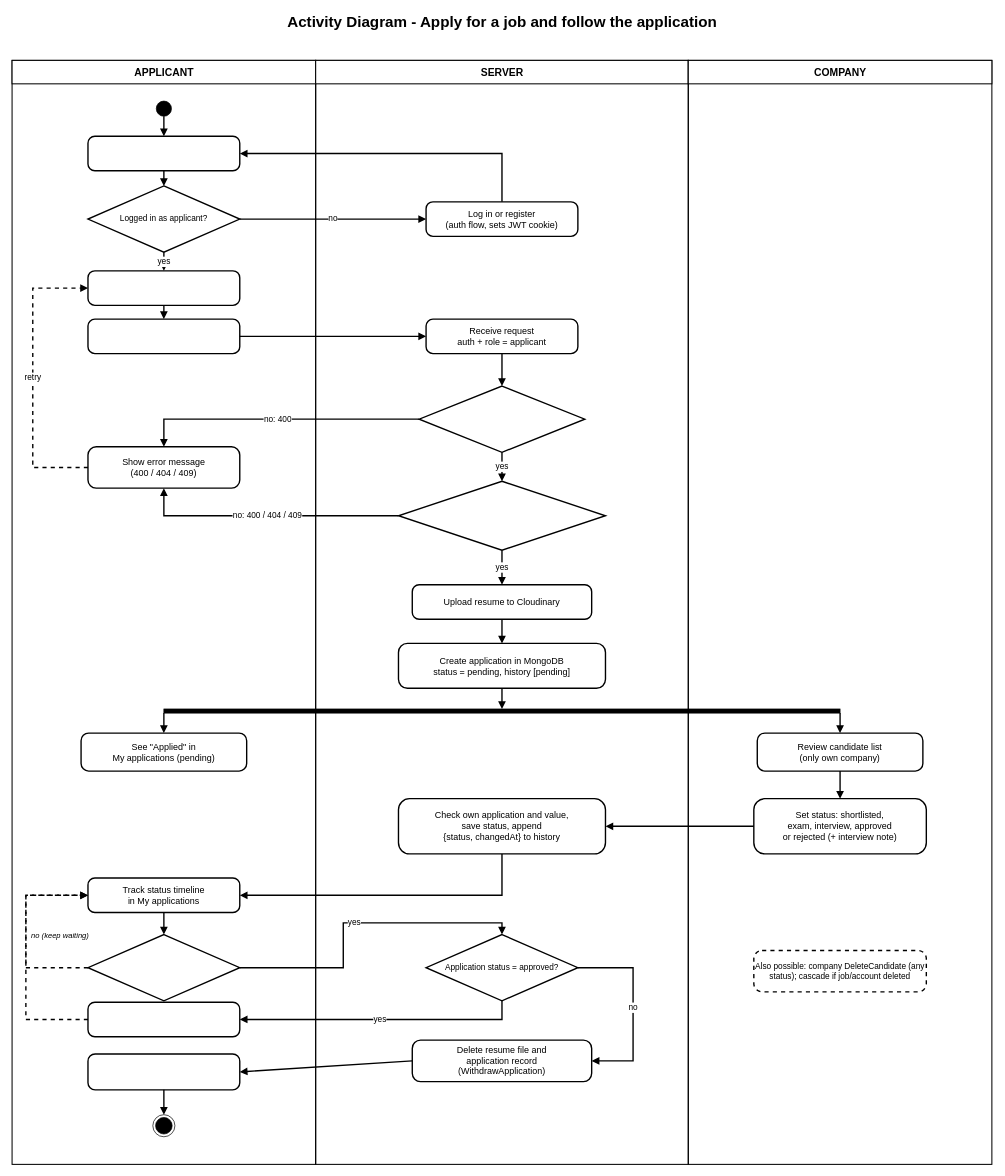
This 1005x1176 diagram has some shape labels left out. Here are the shapes that lost their labels. From the top down, the centre of each, then its label:
(x=163, y=153): Open job details
(x=163, y=288): Choose resume file (pdf / doc / docx)
(x=163, y=336): Click Apply (send resume)
(x=501, y=419): File type and size valid? (max 5 MB)
(x=501, y=515): Job exists and active, deadline open, not yet applied?
(x=163, y=967): Withdraw application?
(x=163, y=1019): Blocked: 400 "can't withdraw an approved application"
(x=163, y=1071): See confirmation: application withdrawn
